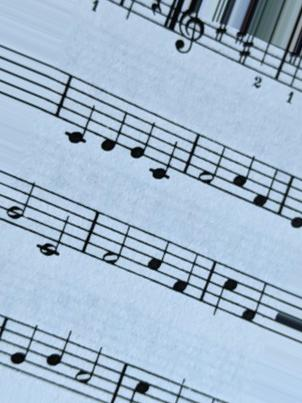A: (145, 228, 171, 293), (232, 146, 255, 208)
B: (44, 328, 74, 397)
D: (99, 84, 127, 155)
E: (127, 99, 154, 170)
F: (238, 265, 268, 333), (171, 235, 199, 304), (251, 150, 279, 217)
G: (10, 315, 38, 383)
HC: (211, 255, 238, 321)
LC: (62, 66, 94, 148), (148, 107, 180, 185)
